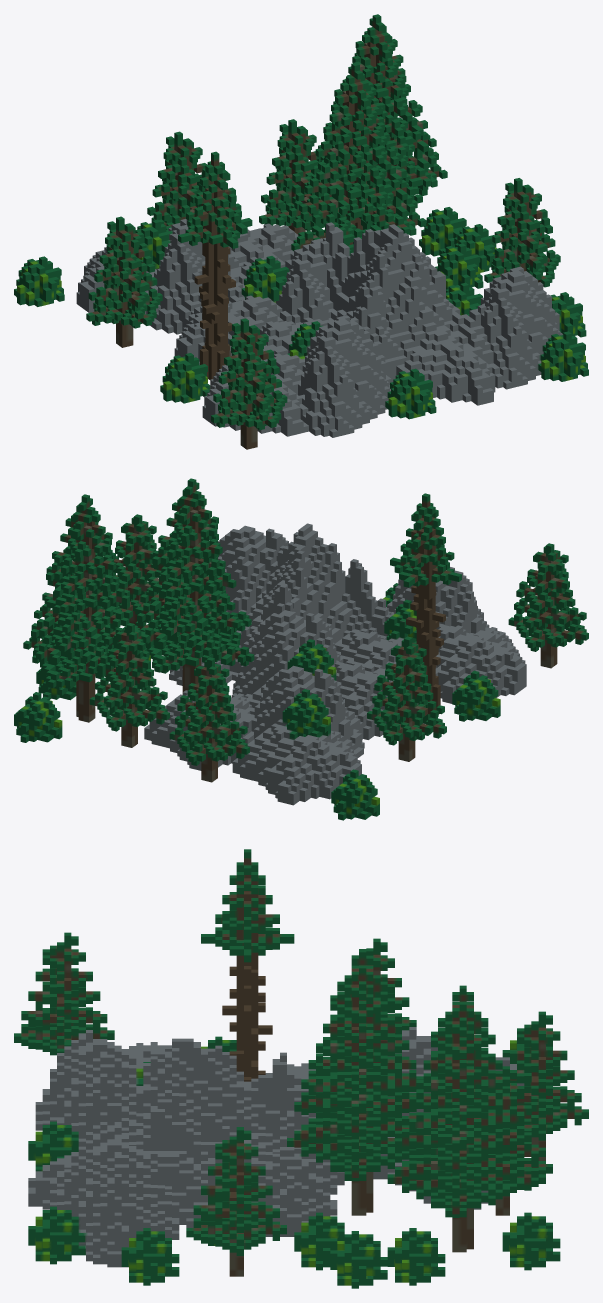
The model's file is big_rocks_3_overtile.glb.
3 renders of one model, top to bottom at view 1: azimuth 30°, elevation 25°; view 2: azimuth 150°, elevation 25°; view 3: azimuth 270°, elevation 25°, orthographic. The views are drawn at different scales.
Visible parts, largest first — view 1: big_rocks_3_overtile; view 2: big_rocks_3_overtile; view 3: big_rocks_3_overtile.
Boxes of the visible parts, x1,y1,x2,y2 form: big_rocks_3_overtile: (14, 14, 588, 449); big_rocks_3_overtile: (14, 478, 588, 820); big_rocks_3_overtile: (14, 849, 588, 1288).
Bounding box in the file's own units: 7.8 × 4 × 8.
1 material, 1 textured.
